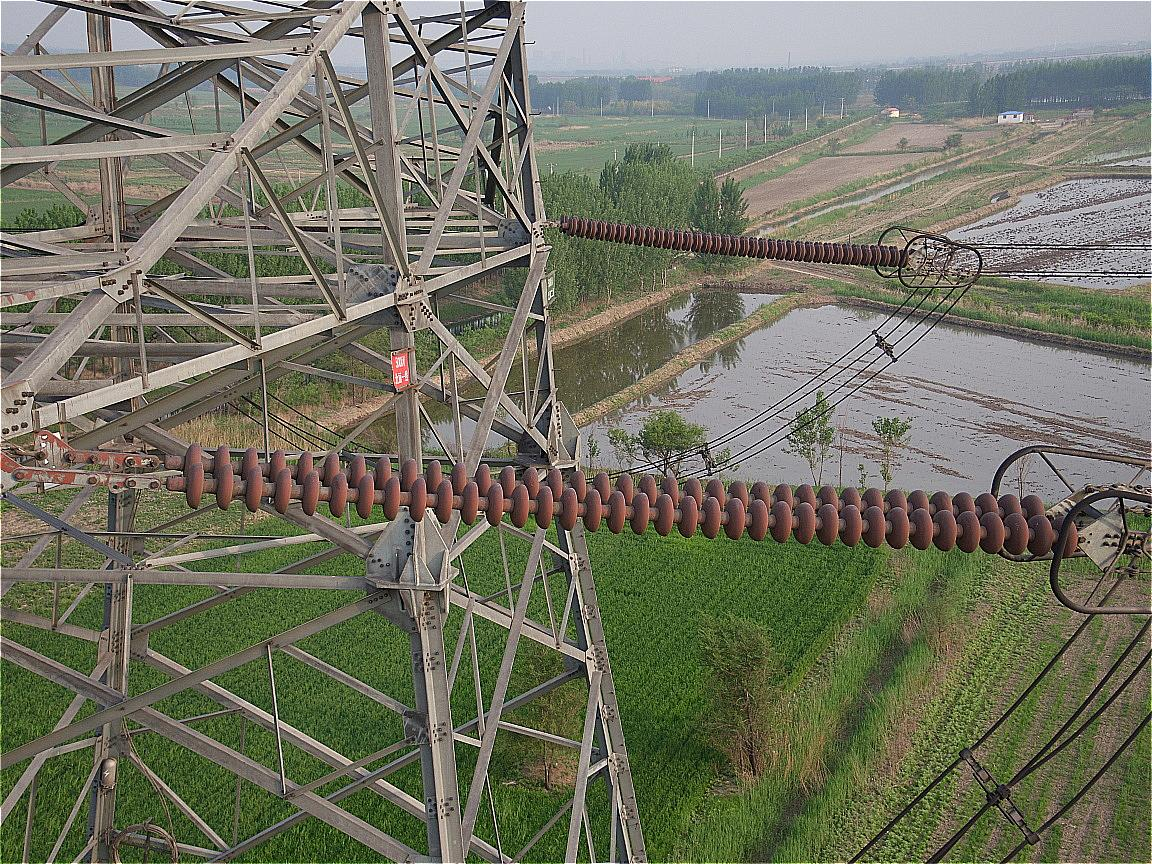insultor1: (183, 445, 1078, 560)
insultor2: (559, 212, 909, 268)
